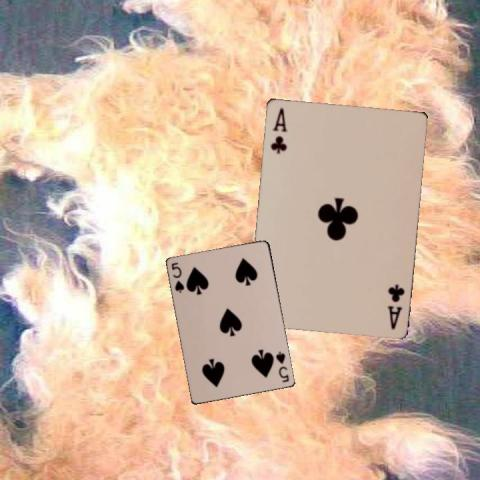5s: (273, 349, 291, 384), (169, 259, 186, 295)
Ac: (267, 104, 289, 155), (384, 280, 406, 330)
